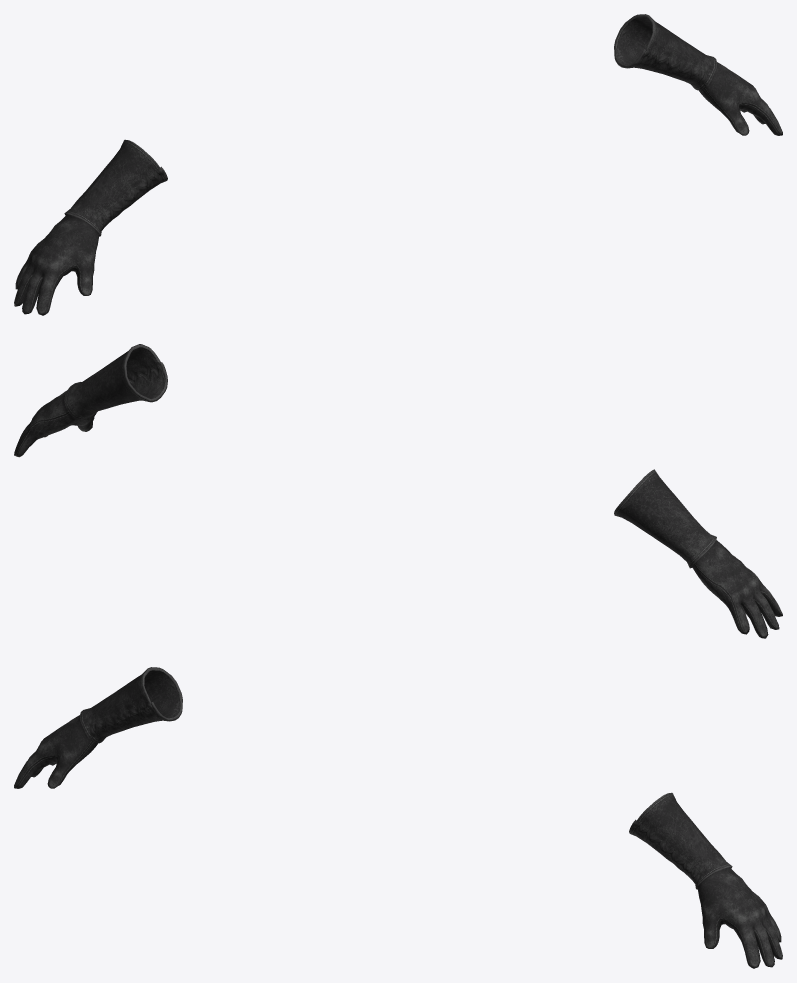
File: pg_spearman_glove.fbx
The picture shows the model from 3 angles, top to bottom: view 1: azimuth 30°, elevation 25°; view 2: azimuth 150°, elevation 25°; view 3: azimuth 330°, elevation 25°; orthographic projection.
Parts seen in each view (by area): view 1: pg_spearman_glove; view 2: pg_spearman_glove; view 3: pg_spearman_glove.
Boxes of the visible parts, bbox=[...] form: pg_spearman_glove: bbox=[14, 14, 782, 315]; pg_spearman_glove: bbox=[14, 344, 782, 638]; pg_spearman_glove: bbox=[14, 667, 782, 968].
Size of the model in its own units: 1.6 by 0.1581 by 0.2773.
1 material, 1 textured.
